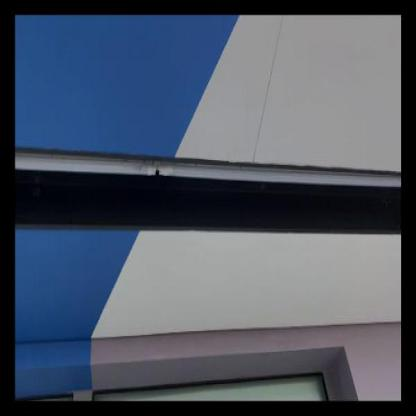light_off: (18, 100, 401, 216)
